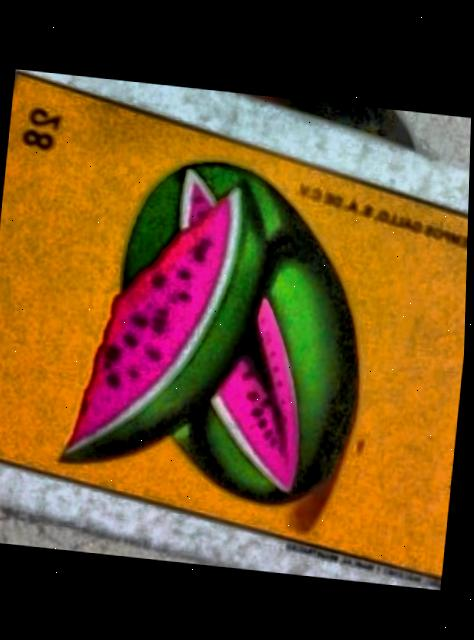La Sandia: (0, 74, 469, 571)
